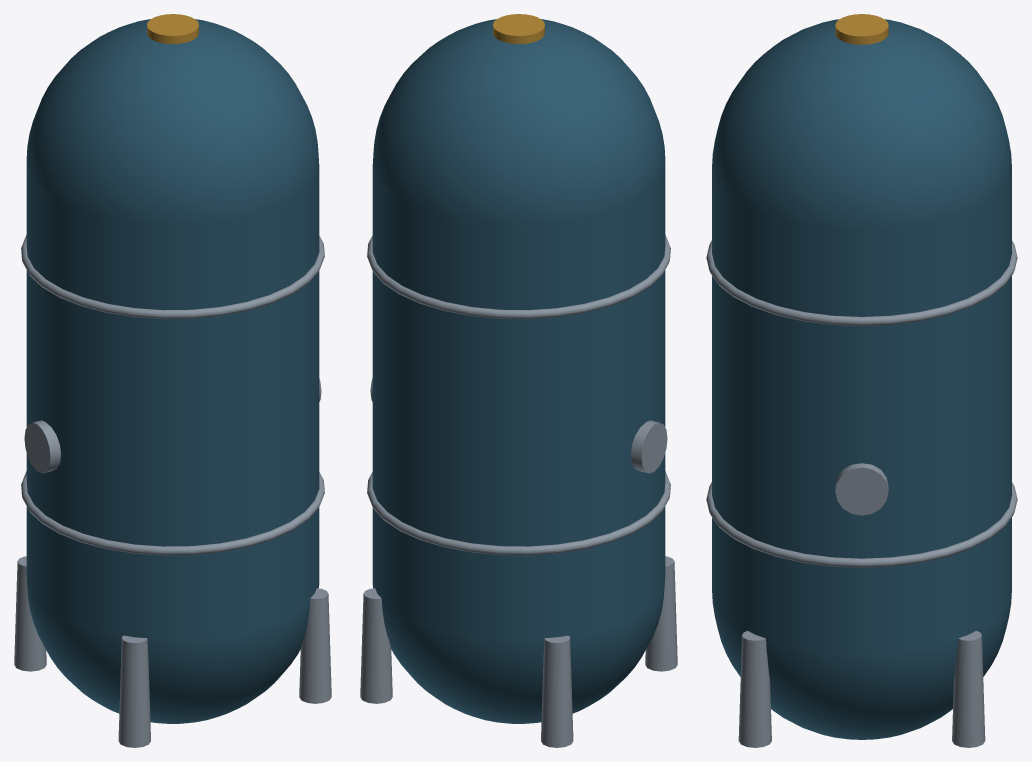
File: tank.glb
The picture shows the model from 3 angles, left to right: view 1: azimuth 30°, elevation 25°; view 2: azimuth 150°, elevation 25°; view 3: azimuth 270°, elevation 25°; orthographic projection. The views are drawn at different scales.
Visible parts, largest first — view 1: object 5, object 6, object 7, object 8, object 9, object 3, object 4, object 1, object 10, gauge; view 2: object 5, object 6, object 7, object 8, object 9, object 1, object 2, object 3, object 10, gauge; view 3: object 5, object 6, object 7, object 8, object 9, object 2, object 4, object 11, gauge.
Boxes of the visible parts, <box> form: object 5: <box>26,163,319,639</box>; object 6: <box>26,19,319,225</box>; object 7: <box>26,576,319,723</box>; object 8: <box>21,471,324,555</box>; object 9: <box>21,235,324,319</box>; object 3: <box>118,635,150,747</box>; object 4: <box>299,588,331,703</box>; object 1: <box>14,556,46,671</box>; object 10: <box>24,420,60,473</box>; gauge: <box>147,14,198,43</box>; object 5: <box>372,163,665,639</box>; object 6: <box>372,19,665,225</box>; object 7: <box>372,576,665,723</box>; object 8: <box>367,471,670,555</box>; object 9: <box>367,235,670,319</box>; object 1: <box>541,635,573,747</box>; object 2: <box>360,588,392,703</box>; object 3: <box>645,556,677,671</box>; object 10: <box>631,420,667,473</box>; gauge: <box>493,14,544,43</box>; object 5: <box>712,168,1011,653</box>; object 6: <box>712,19,1011,230</box>; object 7: <box>712,591,1011,739</box>; object 8: <box>706,482,1017,567</box>; object 9: <box>706,240,1017,326</box>; object 2: <box>952,631,985,747</box>; object 4: <box>738,631,771,747</box>; object 11: <box>835,463,888,515</box>; gauge: <box>835,14,888,44</box>.
Bounding box in the file's own units: 0.96 × 2.32 × 0.934.
